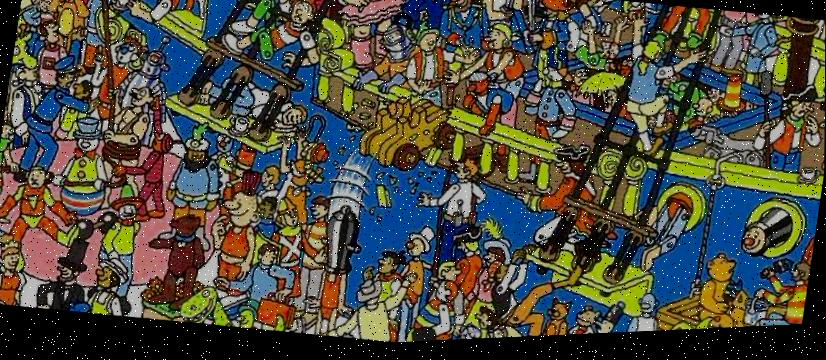waldo: (33, 0, 66, 12)
